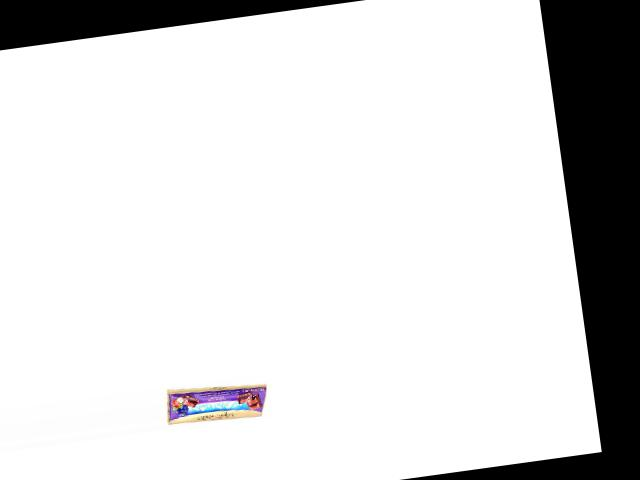chocolate: (163, 375, 274, 424)
